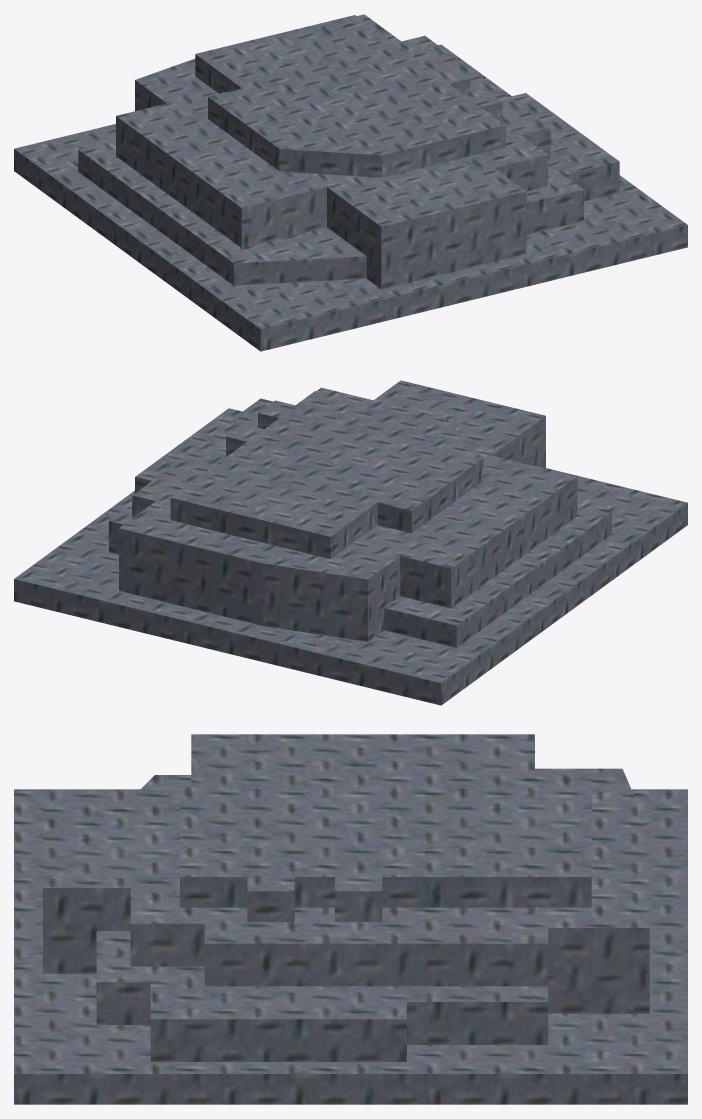
The picture shows the model from 3 angles, top to bottom: view 1: azimuth 30°, elevation 25°; view 2: azimuth 150°, elevation 25°; view 3: azimuth 270°, elevation 25°; orthographic projection. The views are drawn at different scales.
Visible parts, largest first — view 1: SketchUp (×3); view 2: SketchUp (×3); view 3: SketchUp (×3).
Boxes of the visible parts, bbox=[...] form: SketchUp (×3): bbox=[14, 14, 687, 351]; SketchUp (×3): bbox=[14, 380, 687, 705]; SketchUp (×3): bbox=[14, 734, 687, 1104].
Size of the model in its own units: 39.37 by 39.37 by 9.45.
Materials: 2 (1 with a texture image).
